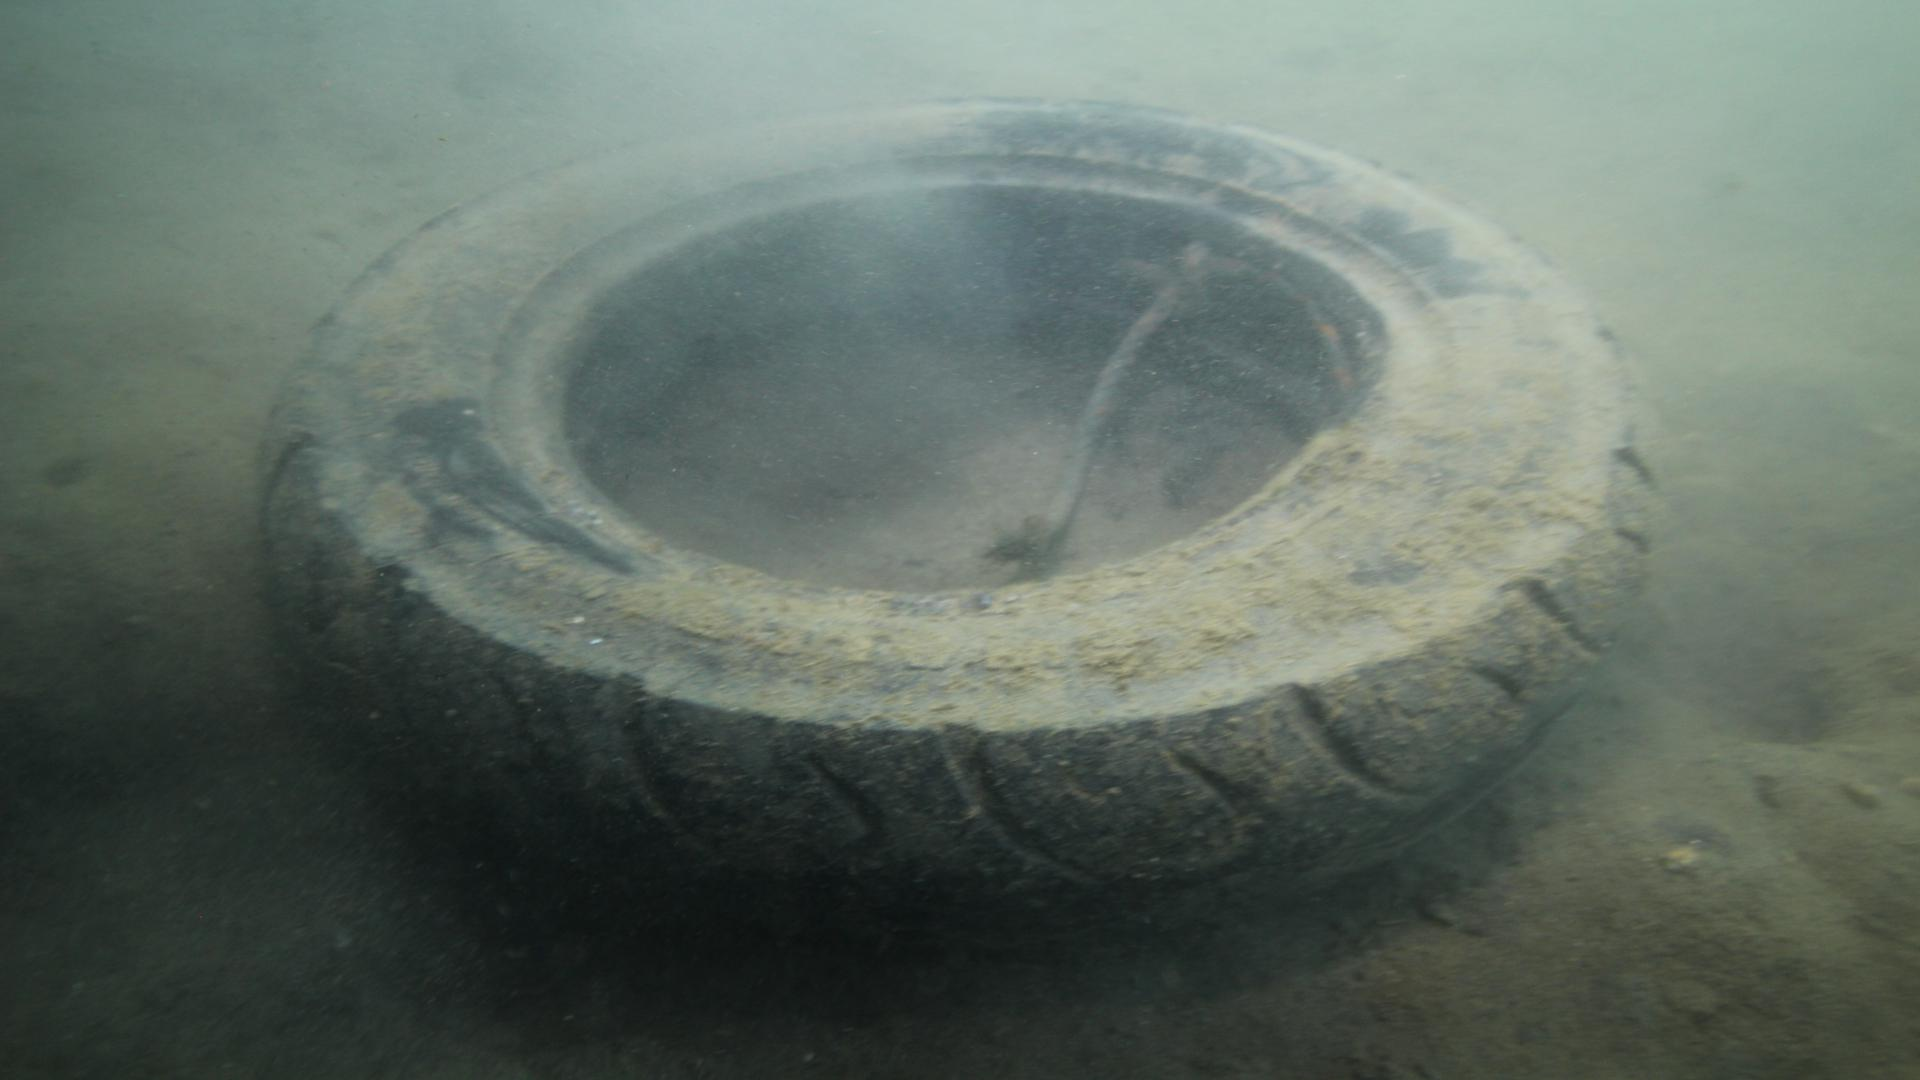rope: (1042, 284, 1178, 535)
tire: (258, 99, 1662, 1004)
